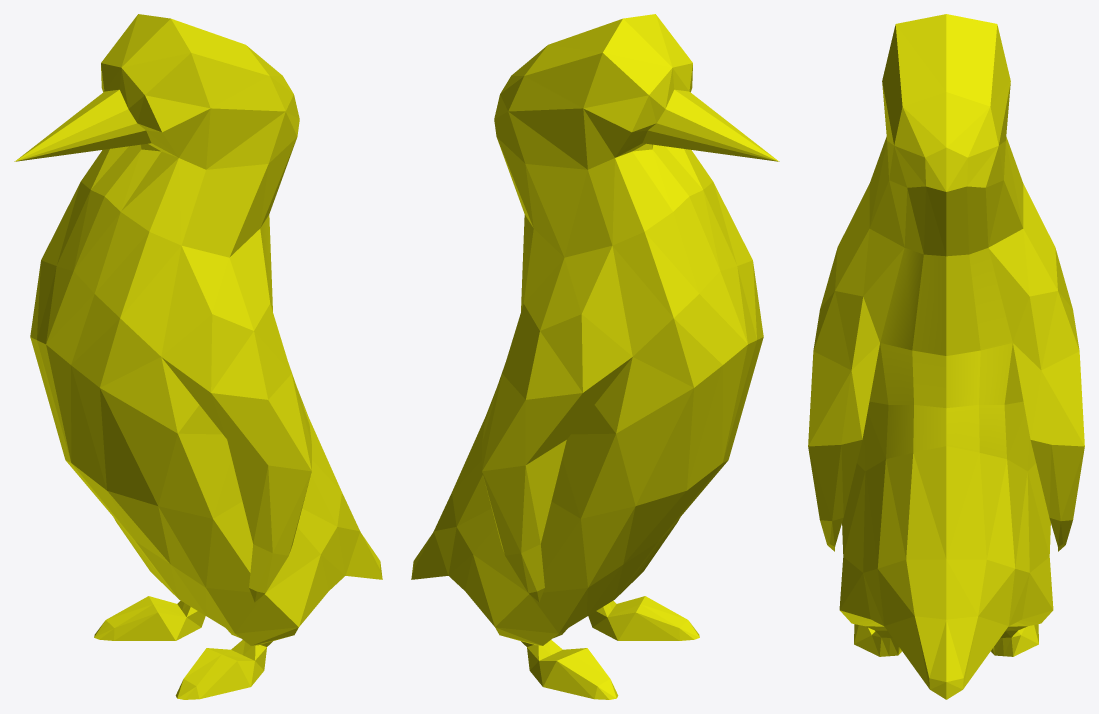
3 views of the same model, side by side, from view 1: azimuth 30°, elevation 25°; view 2: azimuth 150°, elevation 25°; view 3: azimuth 270°, elevation 25° (orthographic). The views are drawn at different scales.
Visible parts, largest first — view 1: chim; view 2: chim; view 3: chim.
Boxes of the visible parts, x1,y1,x2,y2 form: chim: (14,14,382,699); chim: (411,14,779,699); chim: (808,14,1084,699).
Bounding box in the file's own units: 0.9377 × 1.56 × 0.6368.
Materials: 1 (1 with a texture image).
